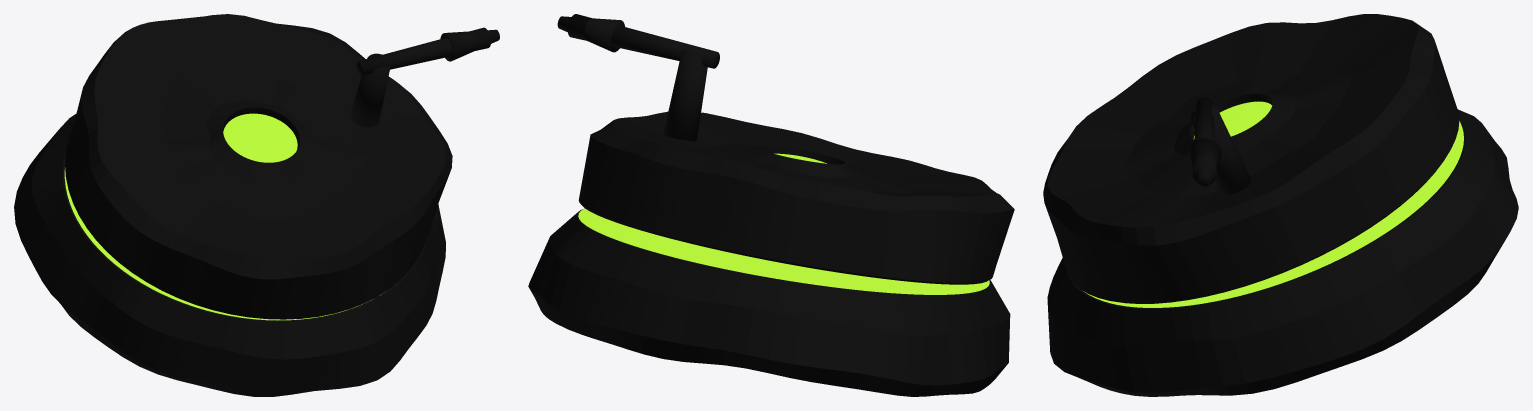
3 views of the same model, side by side, from view 1: azimuth 30°, elevation 25°; view 2: azimuth 150°, elevation 25°; view 3: azimuth 270°, elevation 25° (orthographic). The views are drawn at different scales.
Parts seen in each view (by area): view 1: upper, lower, hopper, arm_beam, arm_post, bed, arm_grip; view 2: upper, lower, bed, arm_post, arm_beam, arm_grip; view 3: upper, lower, bed, arm_post, hopper, arm_beam, arm_grip.
Part boxes in pixels (x1,y1,x2,y2): upper: (65, 14, 452, 319); lower: (14, 113, 445, 396); hopper: (223, 113, 297, 162); arm_beam: (356, 27, 490, 75); arm_post: (350, 53, 390, 127); bed: (64, 167, 381, 320); arm_grip: (440, 29, 499, 61); upper: (578, 111, 1014, 284); lower: (528, 208, 1010, 396); bed: (578, 208, 989, 294); arm_post: (663, 50, 707, 141); arm_beam: (567, 14, 719, 68); arm_grip: (557, 16, 624, 52); upper: (1043, 14, 1459, 303); lower: (1047, 109, 1518, 396); bed: (1083, 121, 1463, 307); arm_post: (1190, 105, 1251, 195); hopper: (1193, 101, 1272, 139); arm_beam: (1192, 97, 1216, 184); arm_grip: (1188, 138, 1221, 186).
Bounding box in the file's own units: 1.86 × 1.19 × 1.65.
